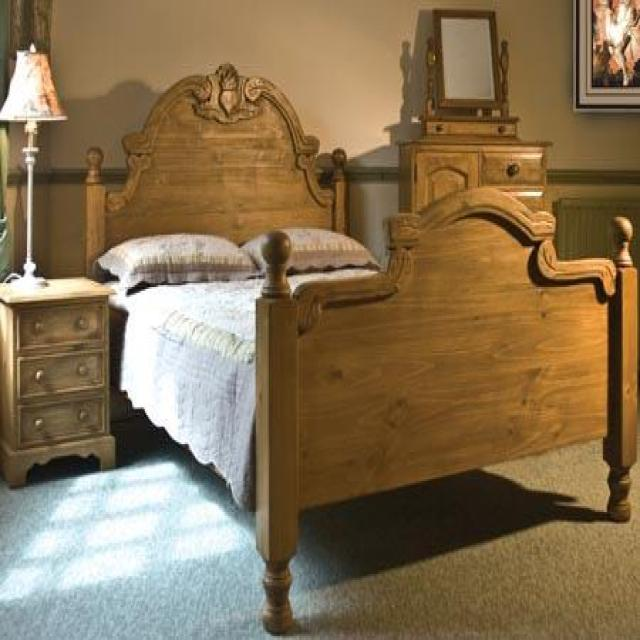bed: (82, 60, 638, 634)
